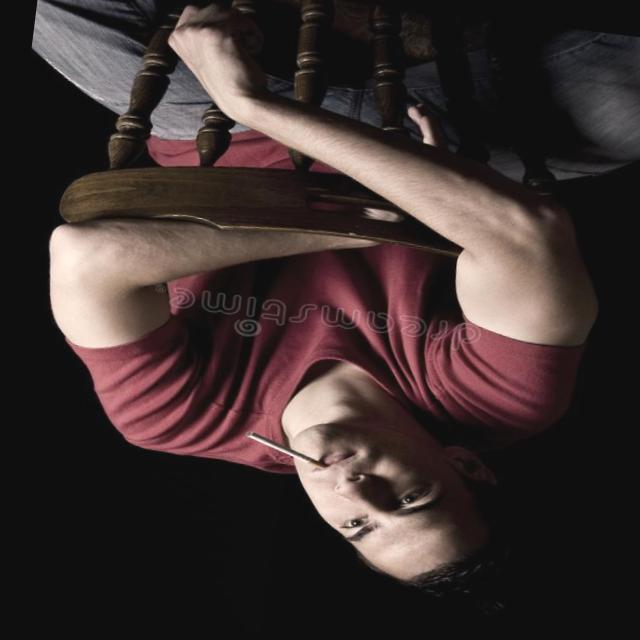smoke: (241, 421, 323, 472)
